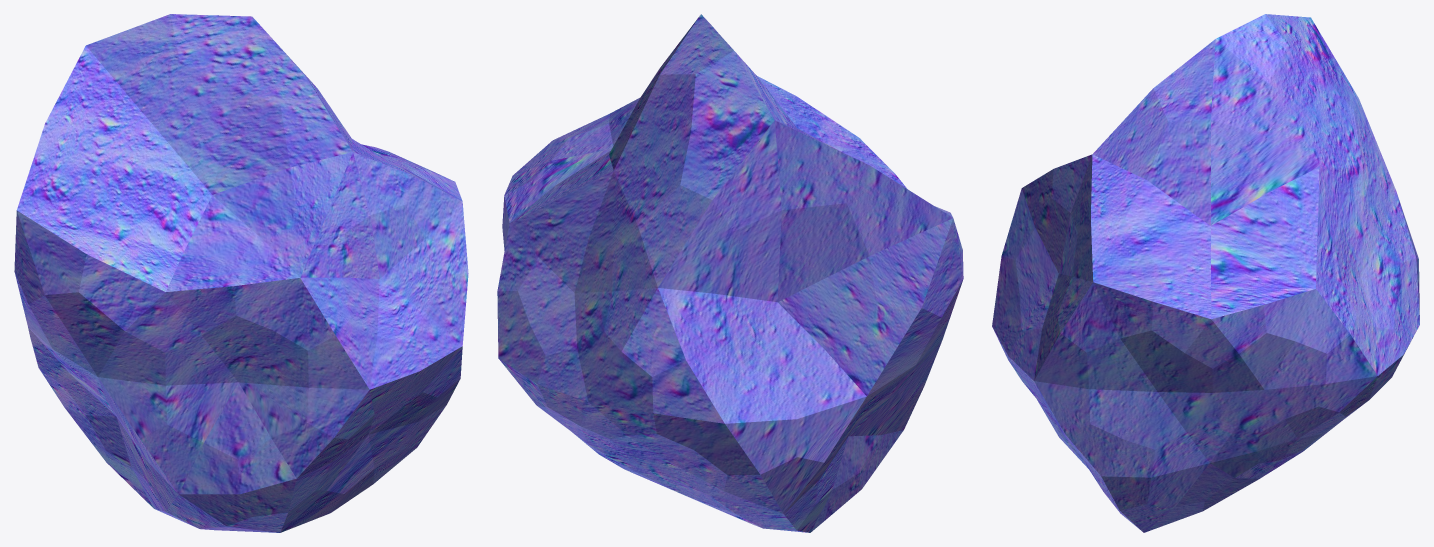
Rendered from mediumasteroid0_LOD3.fbx.
The picture shows the model from 3 angles, left to right: view 1: azimuth 30°, elevation 25°; view 2: azimuth 150°, elevation 25°; view 3: azimuth 270°, elevation 25°; orthographic projection. The views are drawn at different scales.
Visible parts, largest first — view 1: Icosphere; view 2: Icosphere; view 3: Icosphere.
Boxes of the visible parts, x1,y1,x2,y2 form: Icosphere: (14, 14, 468, 532); Icosphere: (497, 14, 963, 532); Icosphere: (992, 14, 1419, 532).
Bounding box in the file's own units: 288 × 312 × 261.
